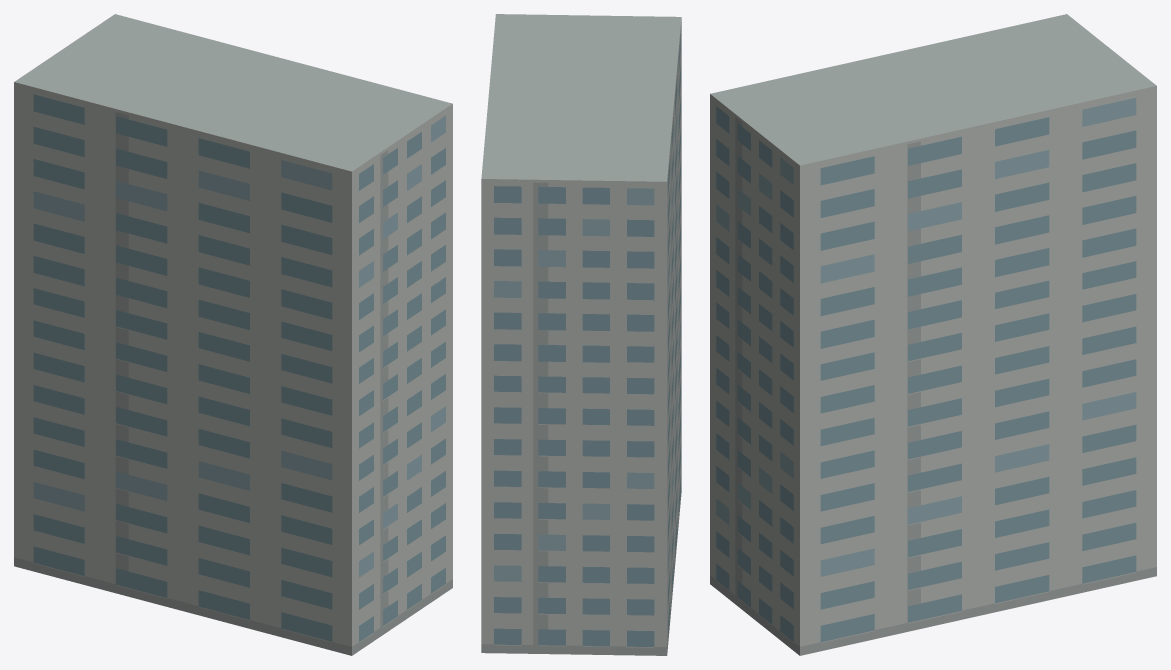
File: residential-a7d36688-58e7-4d8c-8044-5e995b63d964.glb
3 views of the same model, side by side, from view 1: azimuth 30°, elevation 25°; view 2: azimuth 150°, elevation 25°; view 3: azimuth 270°, elevation 25° (orthographic). The views are drawn at different scales.
Parts seen in each view (by area): view 1: residential-a7d36688-58e7-4d8c-8044-5e995b63d964.tmp; view 2: residential-a7d36688-58e7-4d8c-8044-5e995b63d964.tmp; view 3: residential-a7d36688-58e7-4d8c-8044-5e995b63d964.tmp.
Part boxes in pixels (bbox=[...]): residential-a7d36688-58e7-4d8c-8044-5e995b63d964.tmp: bbox=[14, 14, 452, 655]; residential-a7d36688-58e7-4d8c-8044-5e995b63d964.tmp: bbox=[481, 14, 681, 655]; residential-a7d36688-58e7-4d8c-8044-5e995b63d964.tmp: bbox=[710, 14, 1156, 655].
Bounding box in the file's own units: 27.86 × 42 × 34.7.
